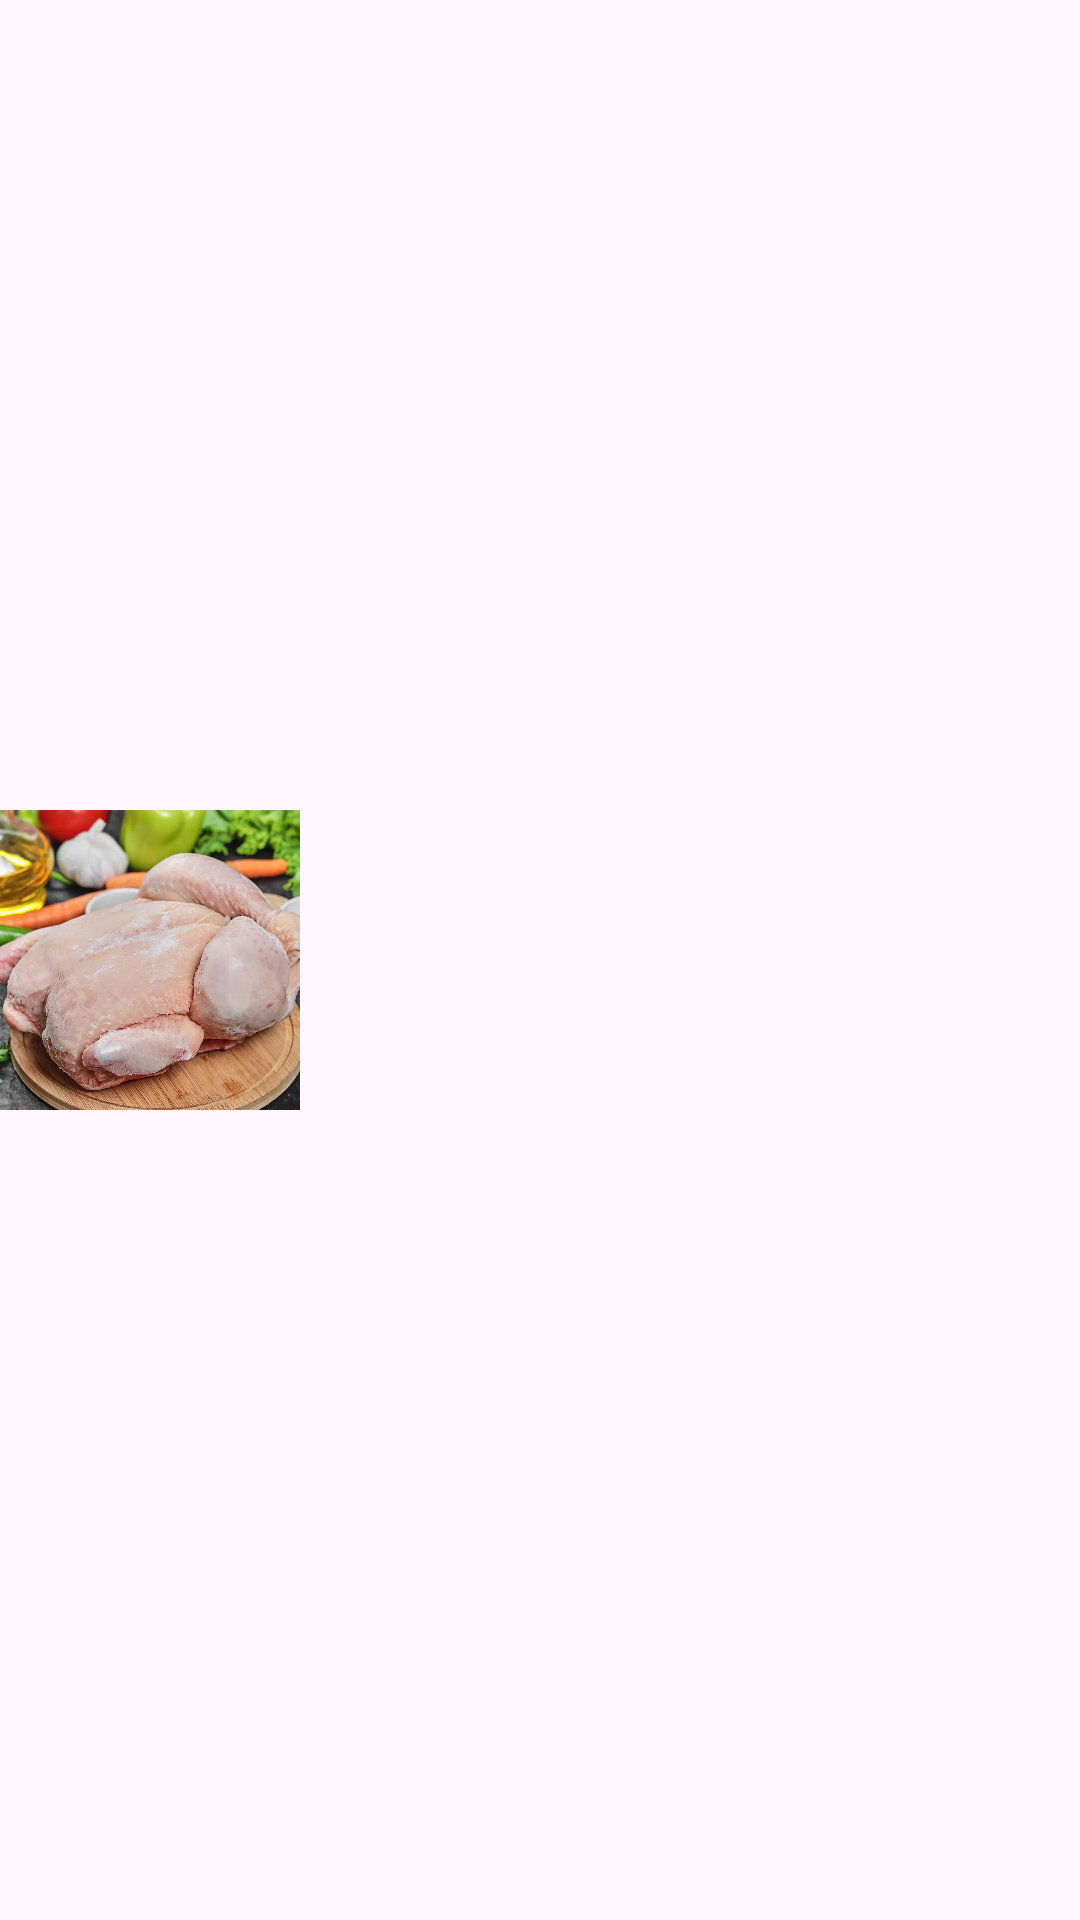

Locate icon controls on the screen. Image size 1080px x 1920px, boxes as bbox(x1, y1, x2, y2).
ayam: bbox(0, 810, 300, 1110)
